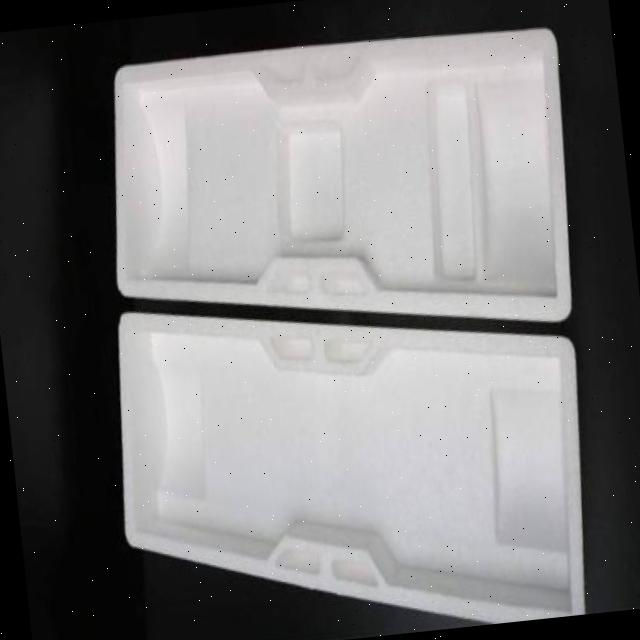styrofoam: (73, 13, 617, 640)
